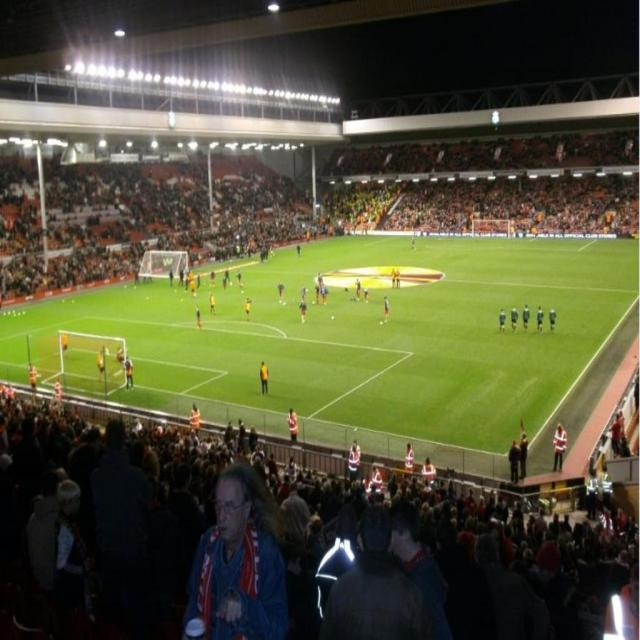ball: (332, 314, 334, 321)
